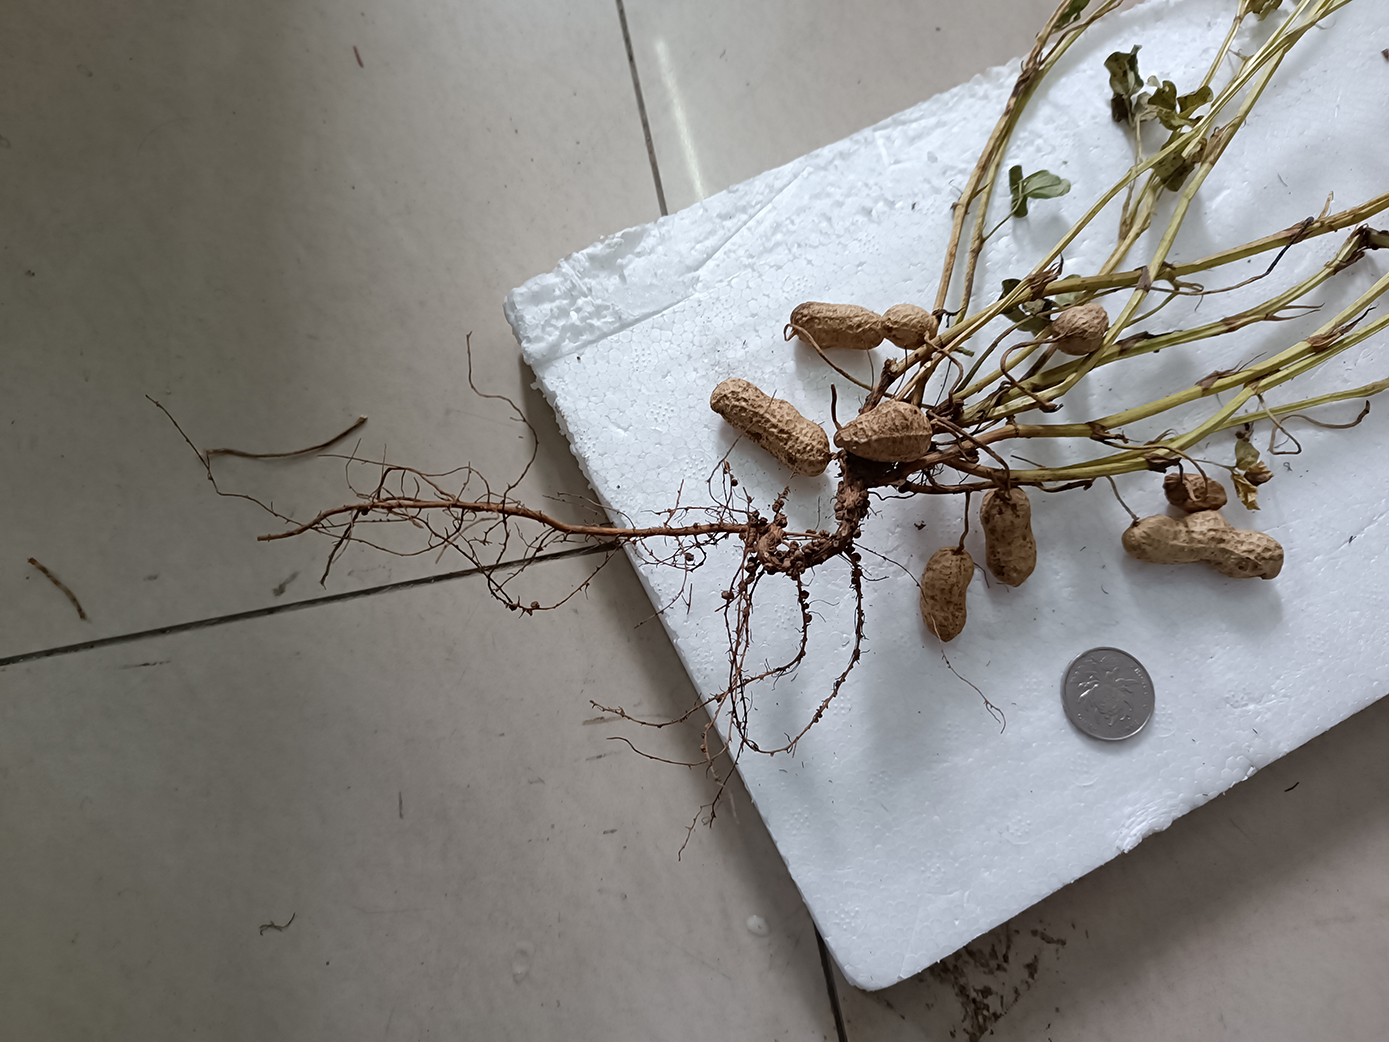h: (1121, 508, 1287, 581), (709, 377, 830, 476), (792, 300, 938, 348), (979, 483, 1037, 588), (832, 402, 931, 460), (918, 548, 974, 642), (1052, 304, 1108, 355)
l: (1164, 470, 1230, 511)
